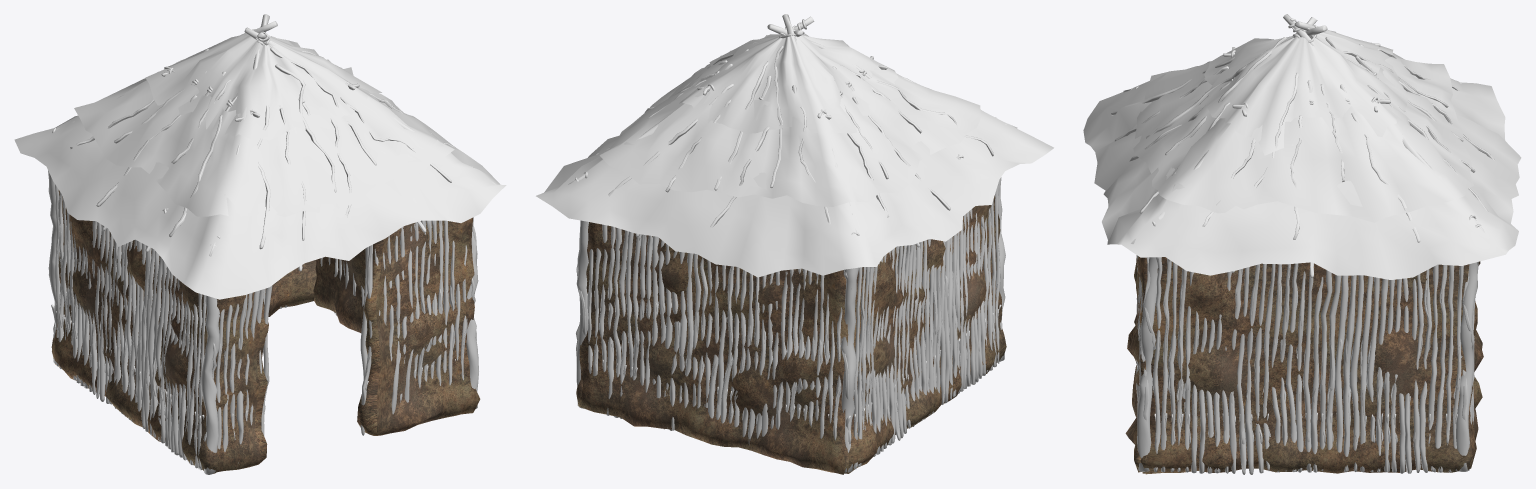
File: highpoly_african_hut_005.fbx
3 renders of one model, left to right at view 1: azimuth 30°, elevation 25°; view 2: azimuth 150°, elevation 25°; view 3: azimuth 270°, elevation 25°, orthographic. The views are drawn at different scales.
Parts seen in each view (by area): view 1: highpoly_african_hut_005; view 2: highpoly_african_hut_005; view 3: highpoly_african_hut_005.
Part boxes in pixels (x1,y1,x2,y2): highpoly_african_hut_005: (14, 14, 506, 474); highpoly_african_hut_005: (536, 14, 1053, 474); highpoly_african_hut_005: (1083, 14, 1521, 474).
Size of the model in its own units: 270 by 271 by 275.
